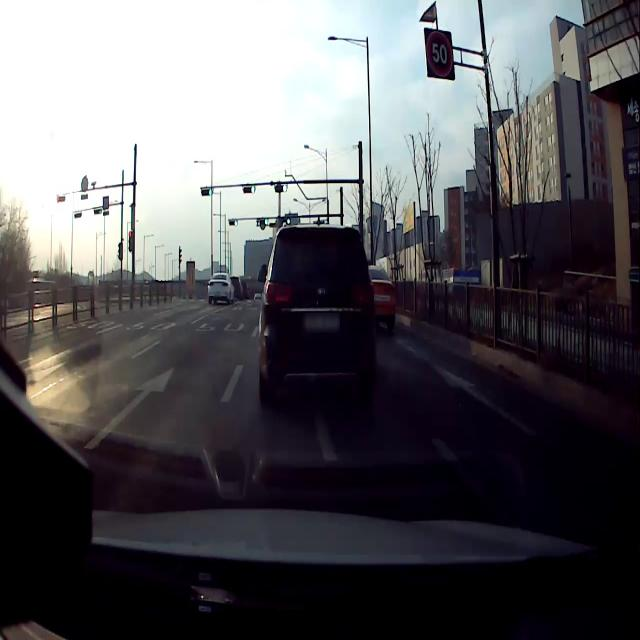Green Light: (233, 219, 238, 227), (251, 185, 255, 194), (208, 188, 212, 196), (283, 184, 287, 192), (286, 218, 290, 225), (264, 219, 268, 225)
